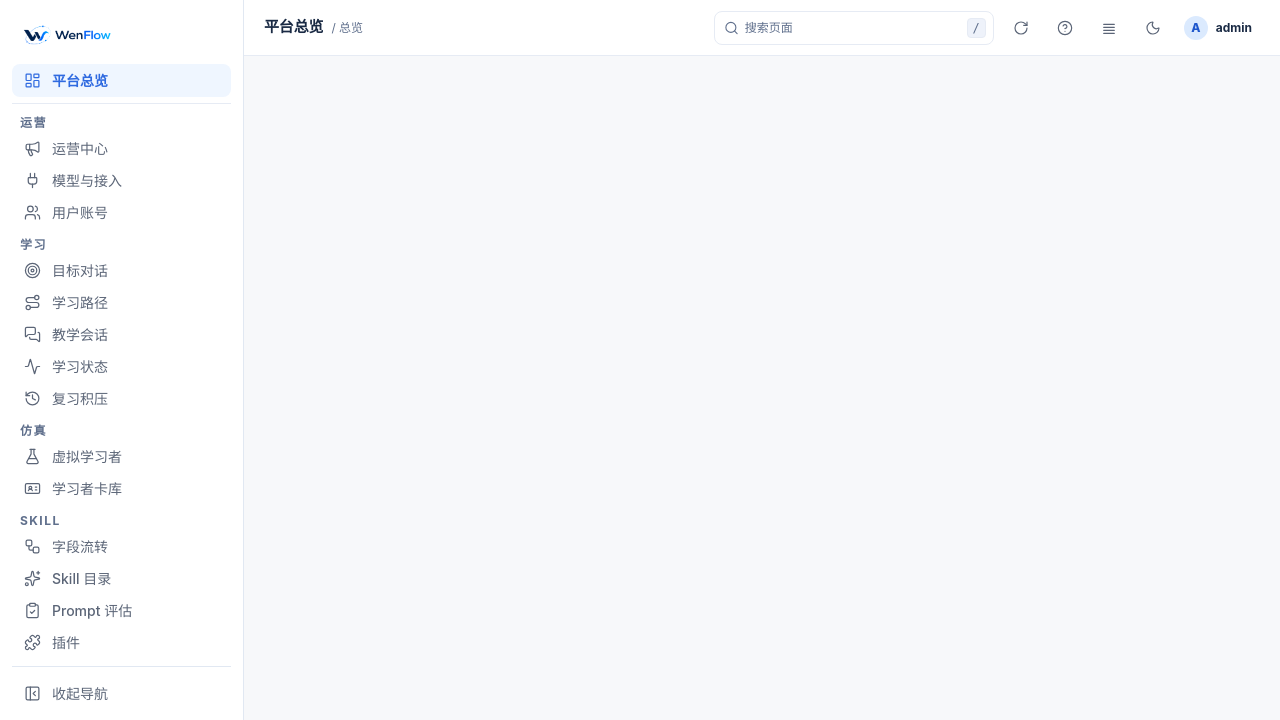
Scenario: Shell 导航 › release 模式下展示账户区（userchip + 退出菜单）
The image size is (1280, 720).
Step 1. Click the button with class "mshell__userchip" → point(1220, 28), box top-left (1180, 12), bottom-right (1260, 44)
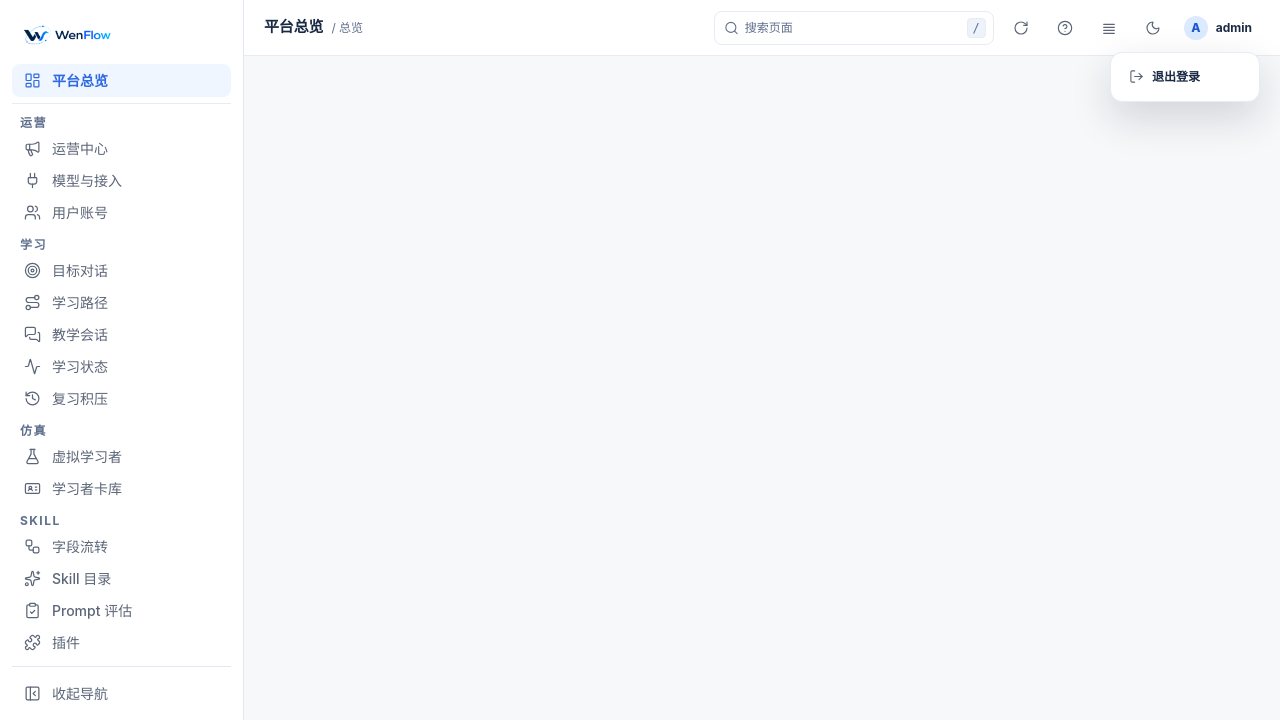
Expected: the menu item with class "mshell__user-item" reads "退出登录", top-left (1117, 58), bottom-right (1253, 94)
